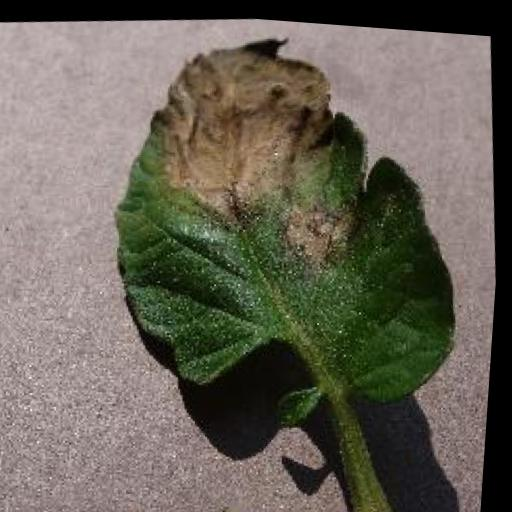Late Blight: (93, 7, 481, 423)
